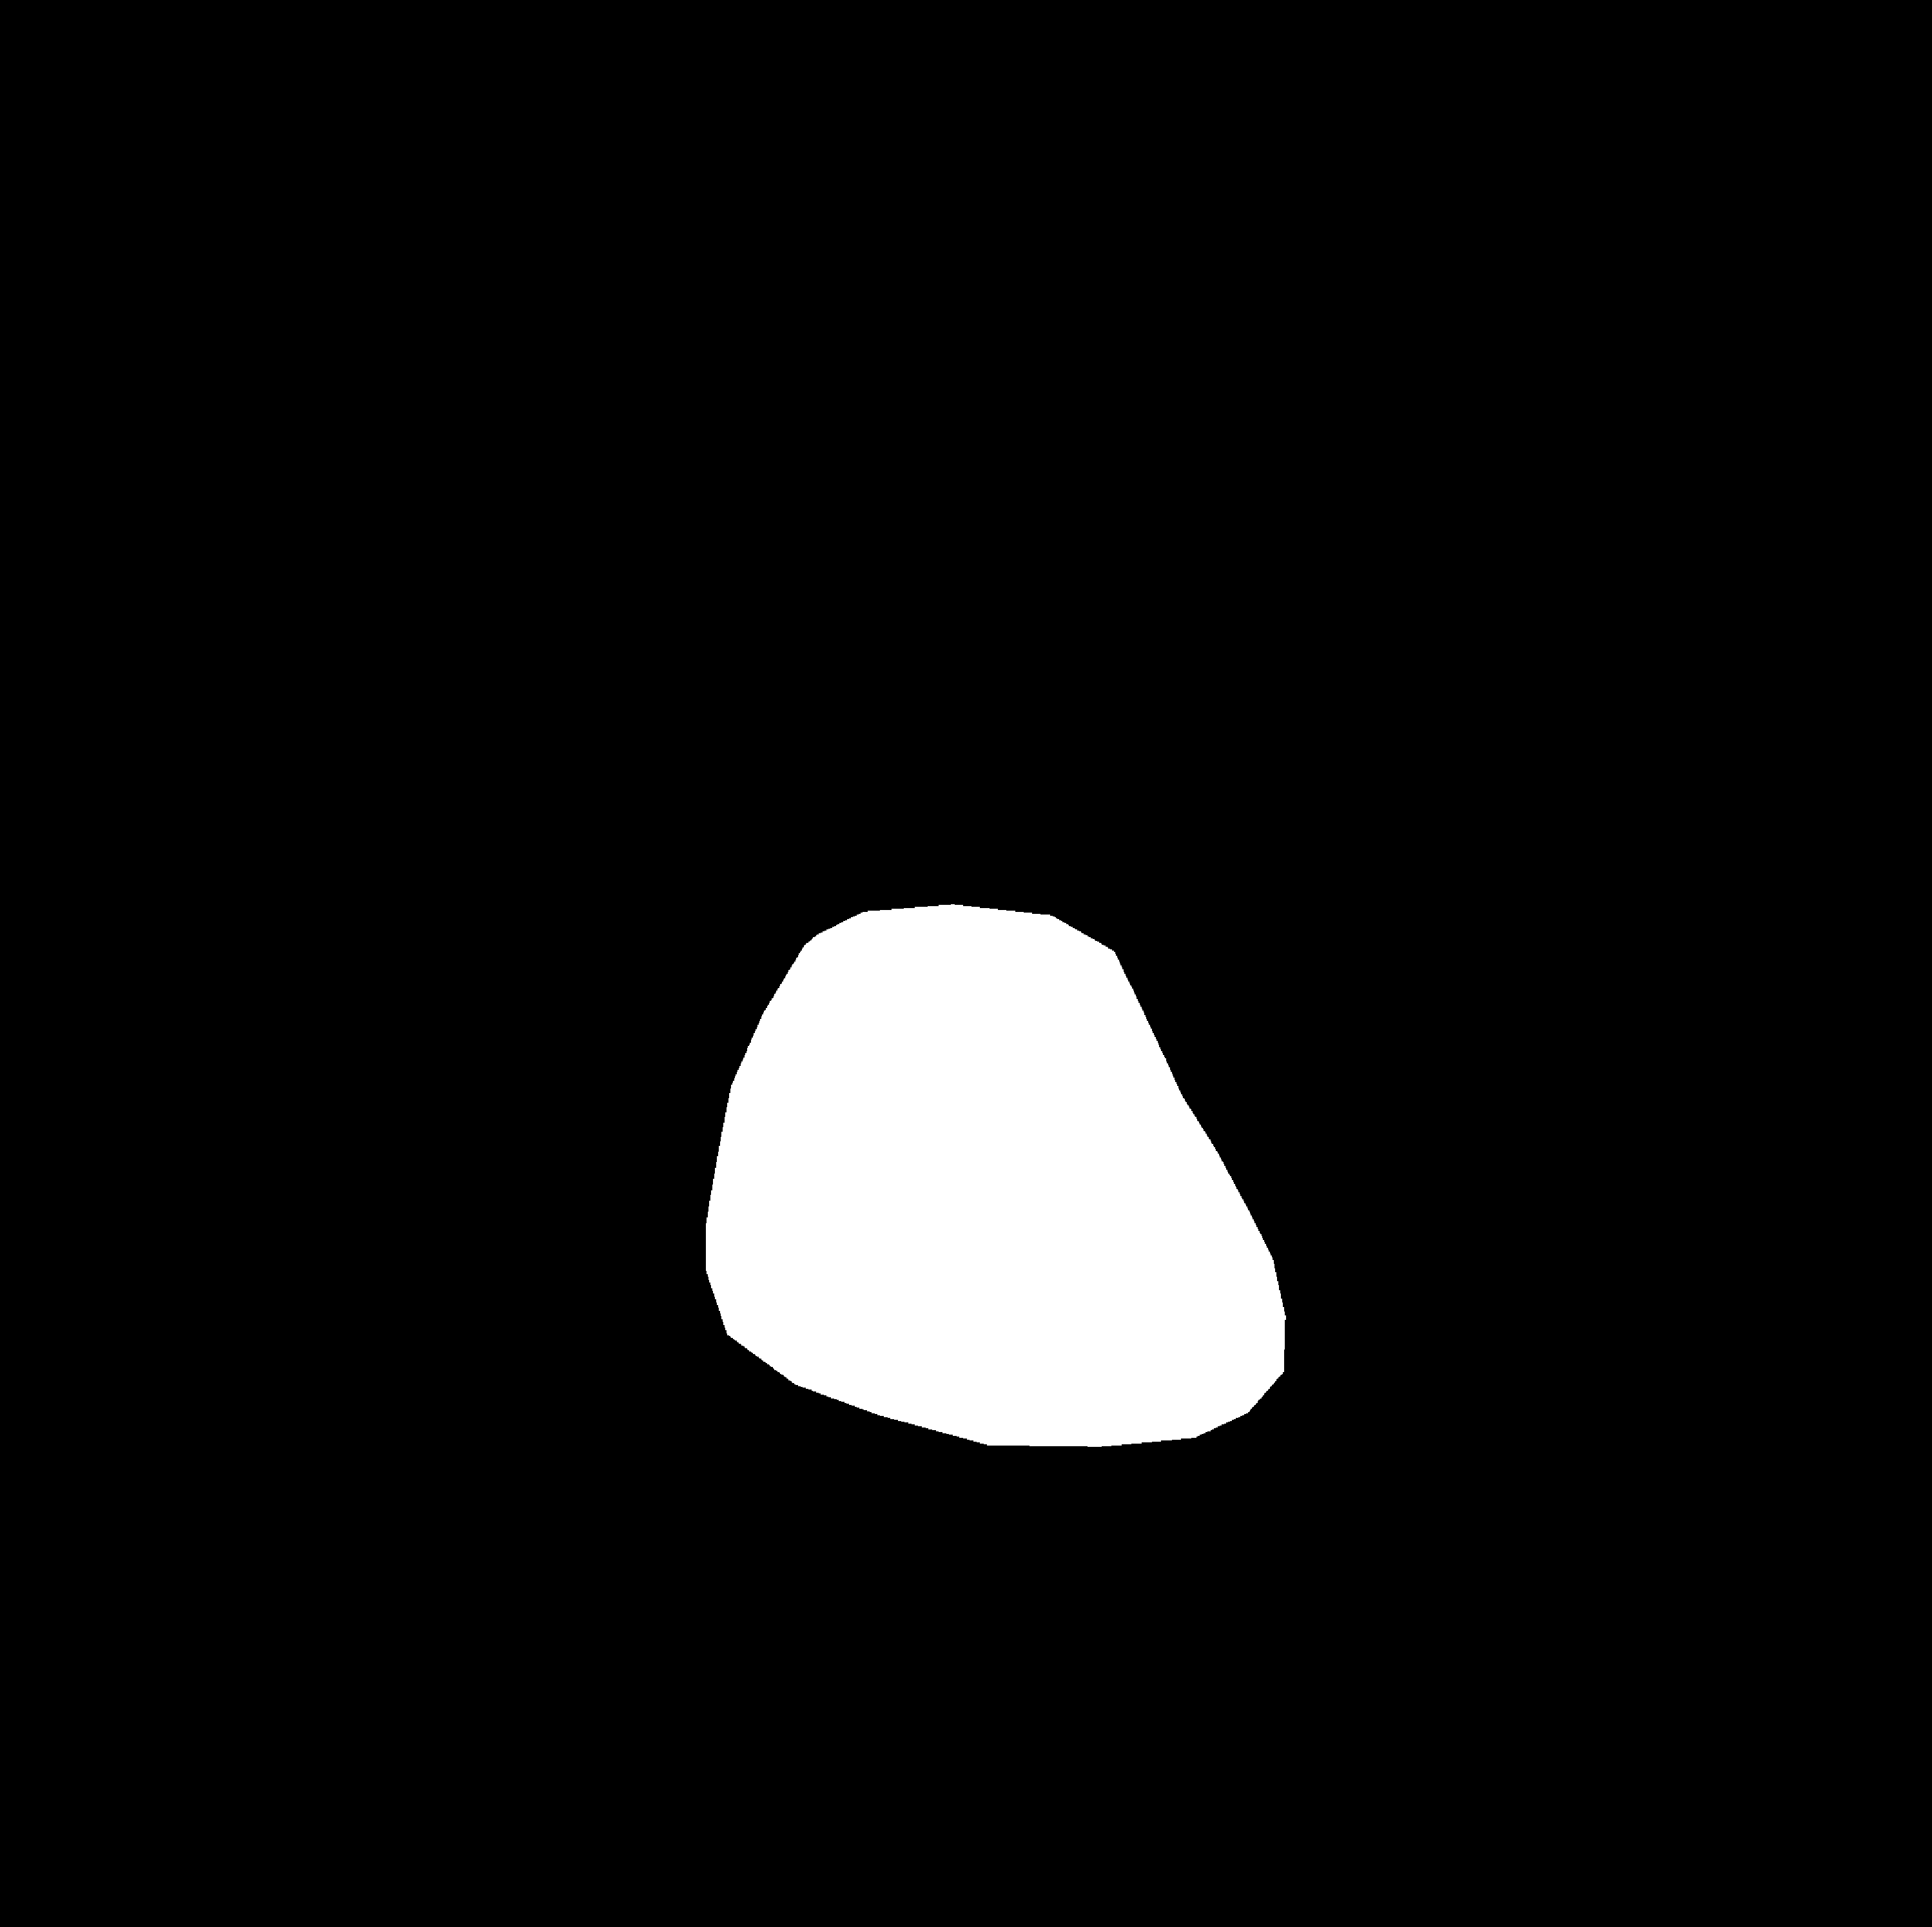heart: (704, 1046, 1284, 1422)
left_lung: (268, 348, 857, 1491)
right_lung: (1002, 362, 1489, 1556)
